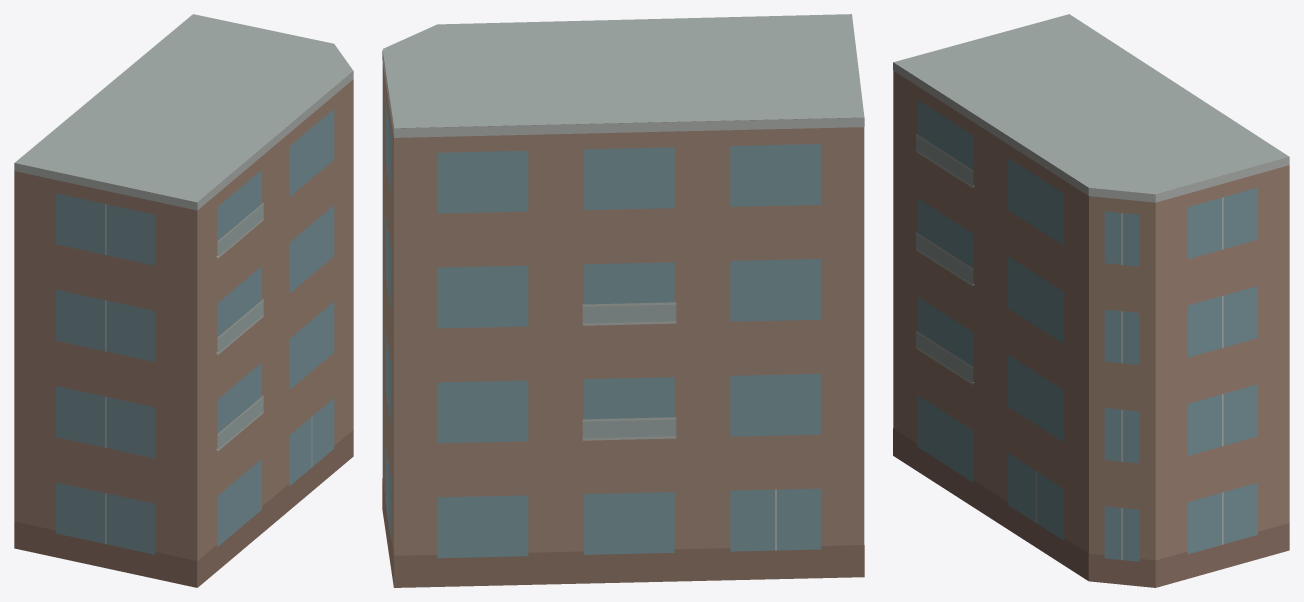
File: survey-upis-32584896.glb
3 renders of one model, left to right at view 1: azimuth 30°, elevation 25°; view 2: azimuth 150°, elevation 25°; view 3: azimuth 270°, elevation 25°, orthographic. The views are drawn at different scales.
Visible parts, largest first — view 1: survey-upis-32584896.tmp; view 2: survey-upis-32584896.tmp; view 3: survey-upis-32584896.tmp.
Boxes of the visible parts, <box> form: survey-upis-32584896.tmp: <box>14,14,353,587</box>; survey-upis-32584896.tmp: <box>382,14,864,587</box>; survey-upis-32584896.tmp: <box>893,14,1289,587</box>.
Bounding box in the file's own units: 11.41 × 11.6 × 10.6.
